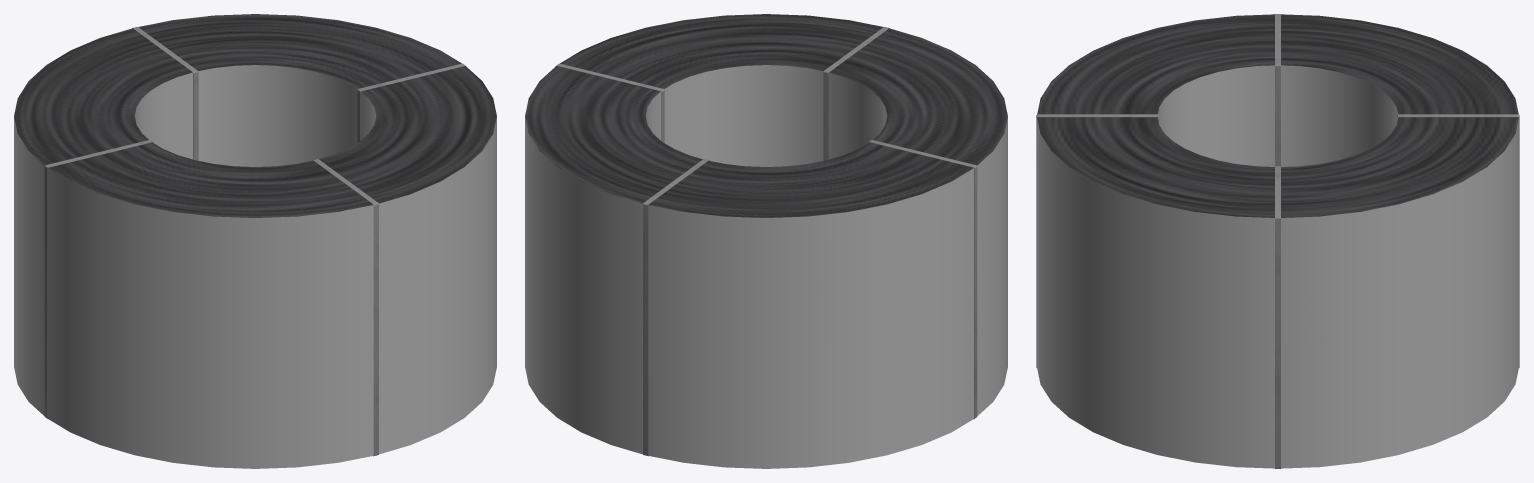
The model's file is Coil_g.gltf.
3 renders of one model, left to right at view 1: azimuth 30°, elevation 25°; view 2: azimuth 150°, elevation 25°; view 3: azimuth 270°, elevation 25°, orthographic.
Visible parts, largest first — view 1: Tube004; view 2: Tube004; view 3: Tube004.
Boxes of the visible parts, x1=… form: Tube004: x1=14, y1=14, x2=496, y2=468; Tube004: x1=525, y1=14, x2=1007, y2=468; Tube004: x1=1036, y1=14, x2=1519, y2=468.
Size of the model in its own units: 0.4554 by 0.2619 by 0.4554.
Materials: 3 (2 with a texture image).
